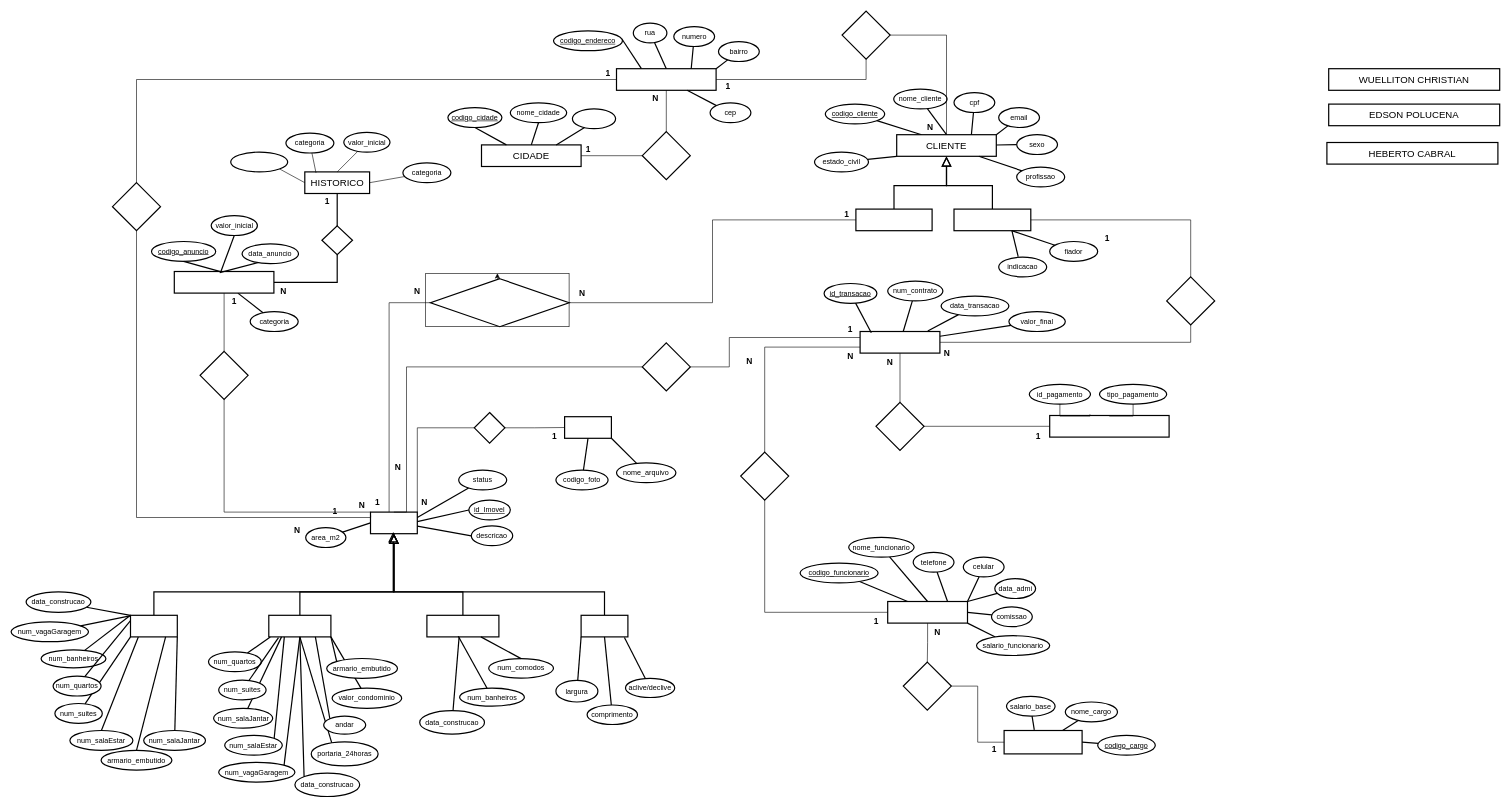
Some shapes in this 1510 by 807 pixel diagram are drawn without their labels. Here are the shapes that lost their labels. From the top down, the box of each, then its label:
(616, 68, 716, 91): ENDERECO
(572, 108, 616, 129): estado
(230, 151, 288, 172): id_historico
(855, 208, 932, 231): PROPRIETARIO
(953, 208, 1031, 231): USUARIO
(173, 271, 274, 293): ANUNCIO
(430, 278, 569, 327): IMOBILIARIA_CLIENTE
(859, 331, 940, 353): TRANSACAO
(564, 416, 612, 439): FOTO
(1049, 415, 1169, 437): FORMA DE PAGAMENTO
(370, 511, 418, 534): IMOVEL
(130, 614, 178, 637): casa
(268, 614, 331, 637): Apartamento
(426, 614, 499, 637): Sala_Comercial
(580, 614, 628, 637): Terreno
(887, 601, 968, 623): FUNCIONARIO
(1003, 730, 1082, 754): CARGO
